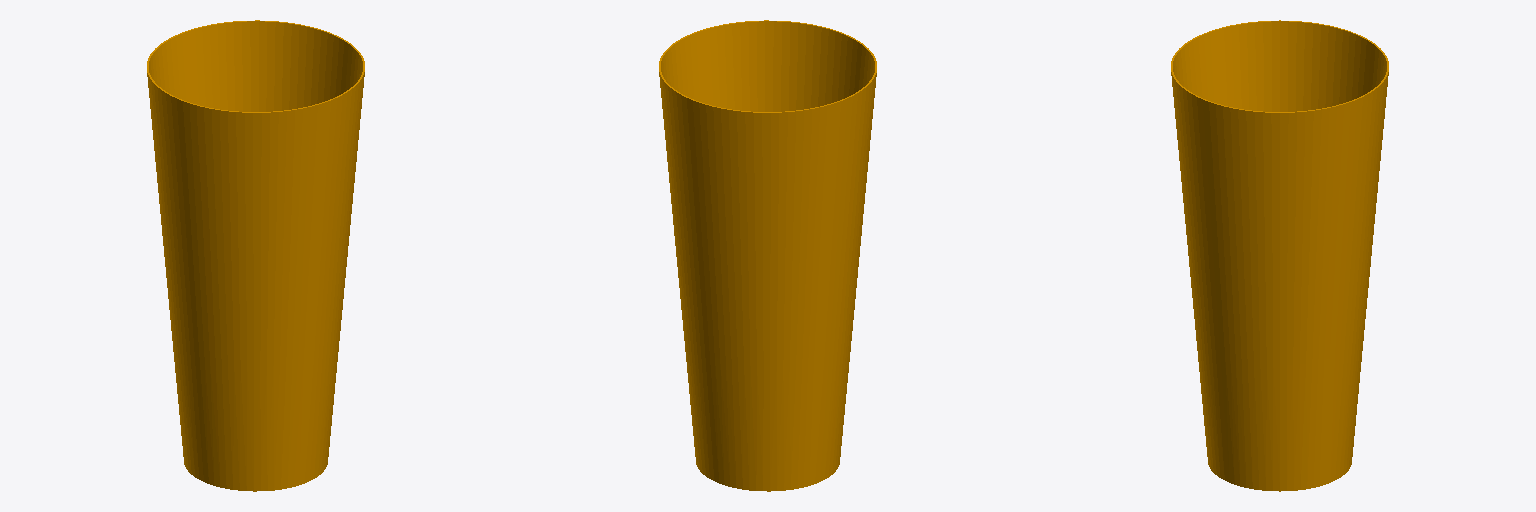
URDF robot description (cocktail_shaker_body):
<?xml version="1.0"?>
<!--
  Cocktail shaker BODY only (open cup) — container for the POURING phase.
  Visual = OBJ, Collision = STL. Mesh paths are relative to this URDF file.
  Meshes are in millimeters -> scale 0.001 converts to meters.

  ISAAC IMPORTANT:
   * Set this link's collision approximation to  "sdf"  (Signed Distance Field)
     after import. Convex hull/decomposition would FILL the cavity so beads
     could not enter. (The prebuilt USD in ../usd already has SDF baked in.)
   * Bottom is now a closed 1.2 mm floor (axis-closed revolve).
   * mass = stainless 304. Change for your material.
-->
<robot name="cocktail_shaker_body">
  <link name="shaker_body">
    <inertial>
      <origin xyz="0 0 0" rpy="0 0 0"/>  <!-- origin = center of mass -->
      <mass value="0.2876"/>
      <inertia ixx="1.028556e-03" ixy="0" ixz="0" iyy="1.028556e-03" iyz="0" izz="3.650899e-04"/>
    </inertial>
    <visual>
      <origin xyz="0 0 0" rpy="0 0 0"/>
      <geometry>
        <mesh filename="../meshes/visual/shaker_body.obj" scale="0.001 0.001 0.001"/>
      </geometry>
    </visual>
    <collision>
      <origin xyz="0 0 0" rpy="0 0 0"/>
      <geometry>
        <!-- use SDF approximation on this mesh in Isaac -->
        <mesh filename="../meshes/collision/shaker_body.stl" scale="0.001 0.001 0.001"/>
      </geometry>
    </collision>
  </link>
</robot>

--- Facts derived from the render (not from the file) ---
The picture shows the robot from 3 angles, left to right: view 1: azimuth 30°, elevation 25°; view 2: azimuth 150°, elevation 25°; view 3: azimuth 270°, elevation 25°; orthographic projection.
Robot: cocktail_shaker_body — 1 links, 0 joints (none); root link shaker_body; default pose: all joints at 0.
Links seen in each view (by area): view 1: shaker_body; view 2: shaker_body; view 3: shaker_body.
Link boxes in pixels (box(x1,y1,x2,y2)): shaker_body: box(147, 20, 364, 491); shaker_body: box(659, 20, 876, 491); shaker_body: box(1171, 20, 1388, 491).
Bounding box of the posed robot: 0.088 × 0.088 × 0.175 m (x, y, z).
Meshes: 1 distinct files referenced, 1 mesh visuals loaded (1 OBJ).
